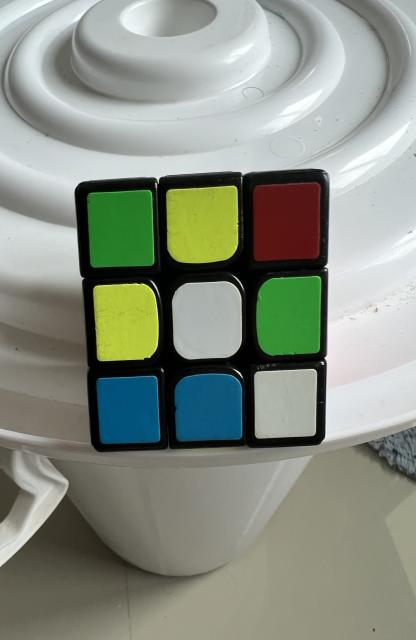Blue: (174, 374, 243, 441), (96, 376, 160, 444)
Green: (87, 190, 155, 268), (256, 276, 322, 356)
Red: (252, 182, 321, 261)
White: (172, 281, 243, 360), (254, 369, 317, 439)
Yellow: (166, 185, 238, 264), (93, 284, 158, 361)
